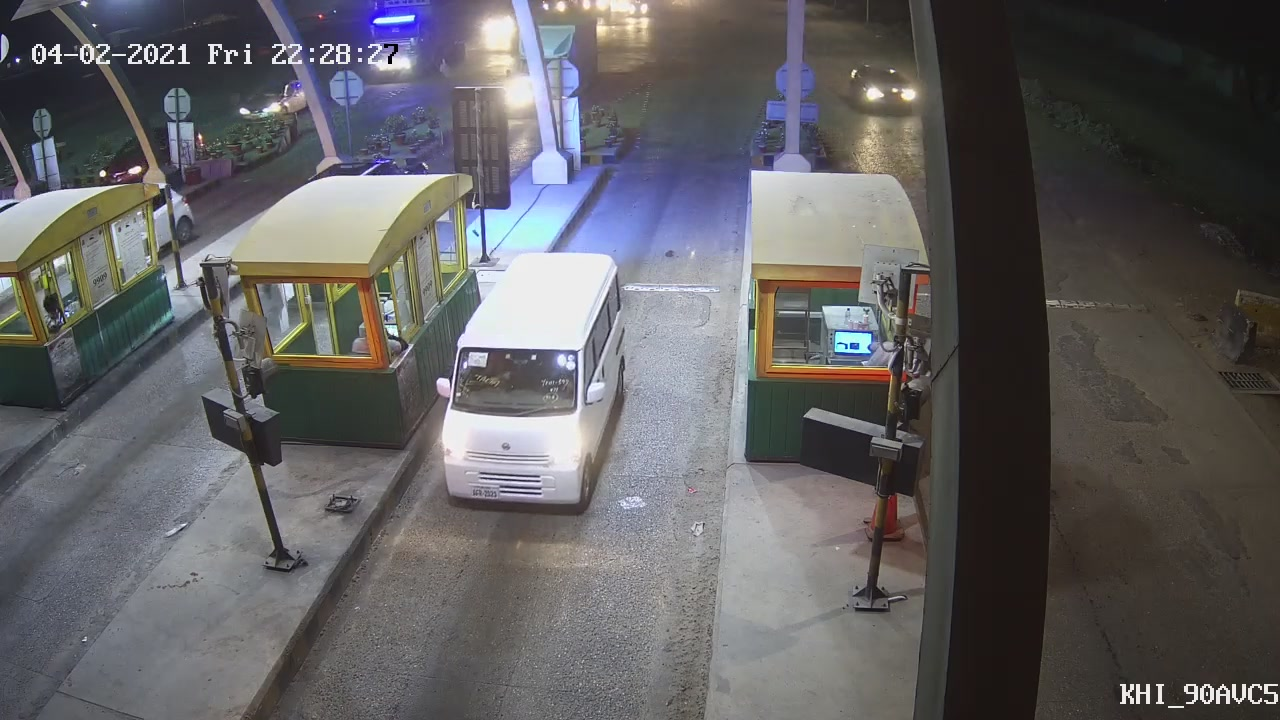F1: (432, 251, 639, 509)
